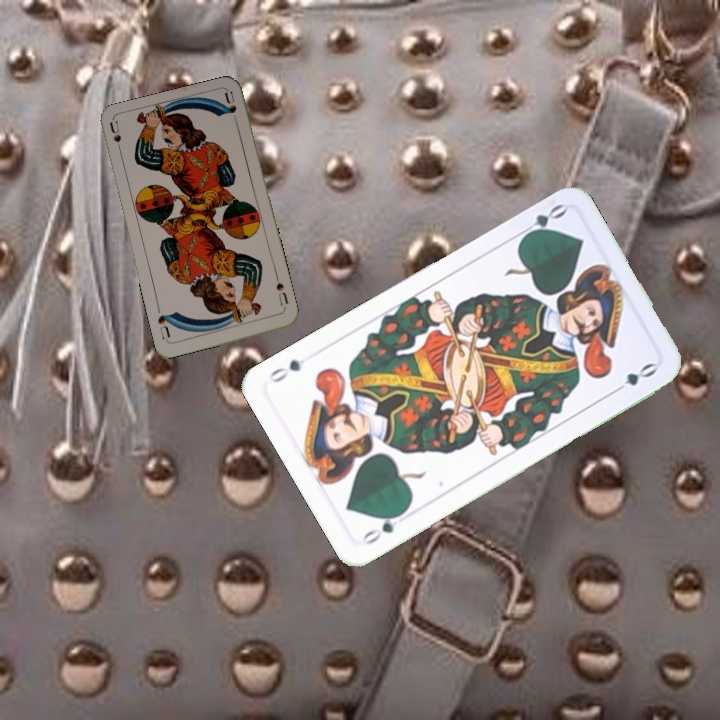GO: (514, 199, 569, 243), (357, 506, 408, 548)
SU: (106, 118, 125, 159), (272, 273, 291, 313)
